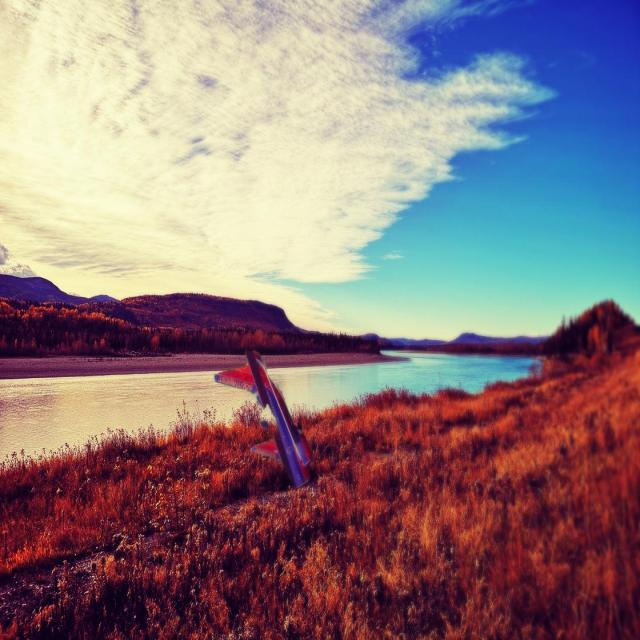airplane: (213, 348, 314, 488)
